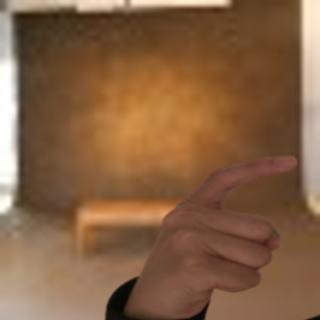WHY: (121, 144, 307, 319)
